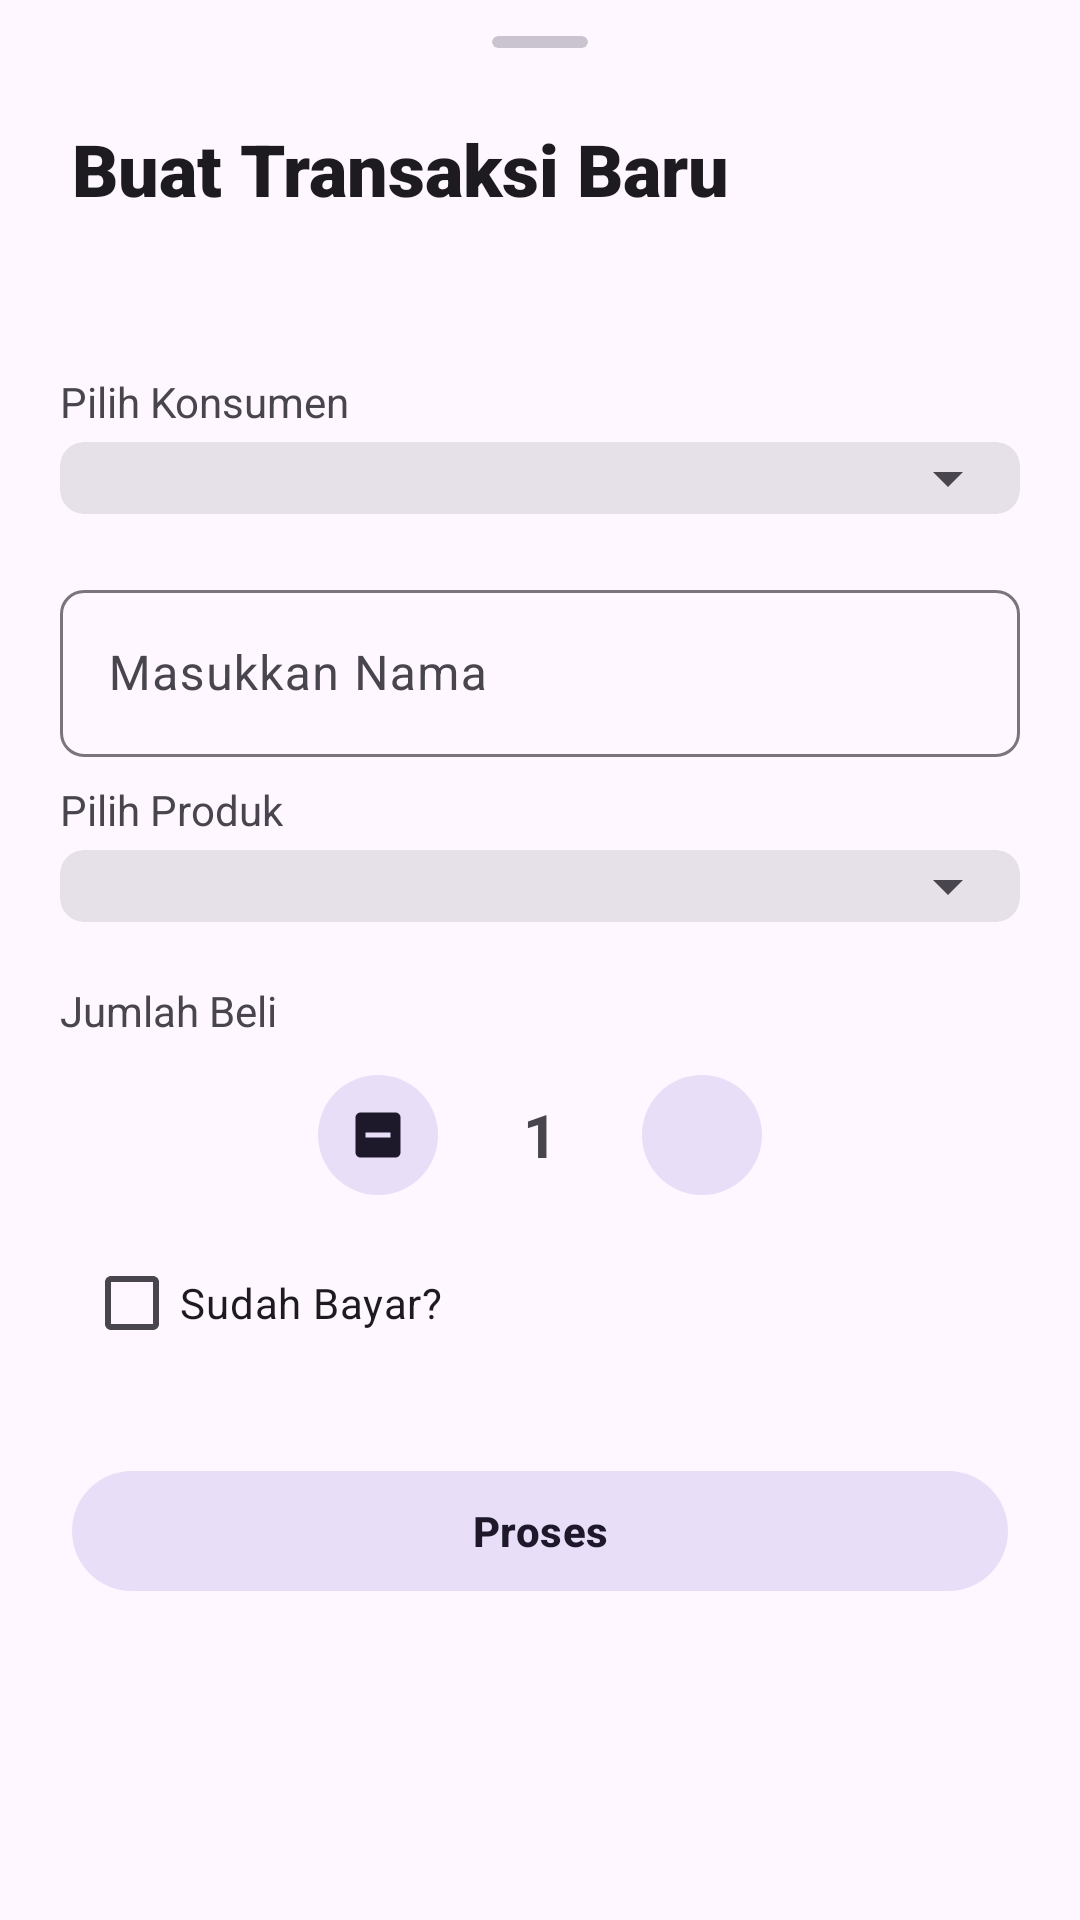

Named icons in this screenshot (1080 × 1920) and their bounding boxes, (x1, y1, x2, y2):
minus: (318, 1075, 438, 1195)
